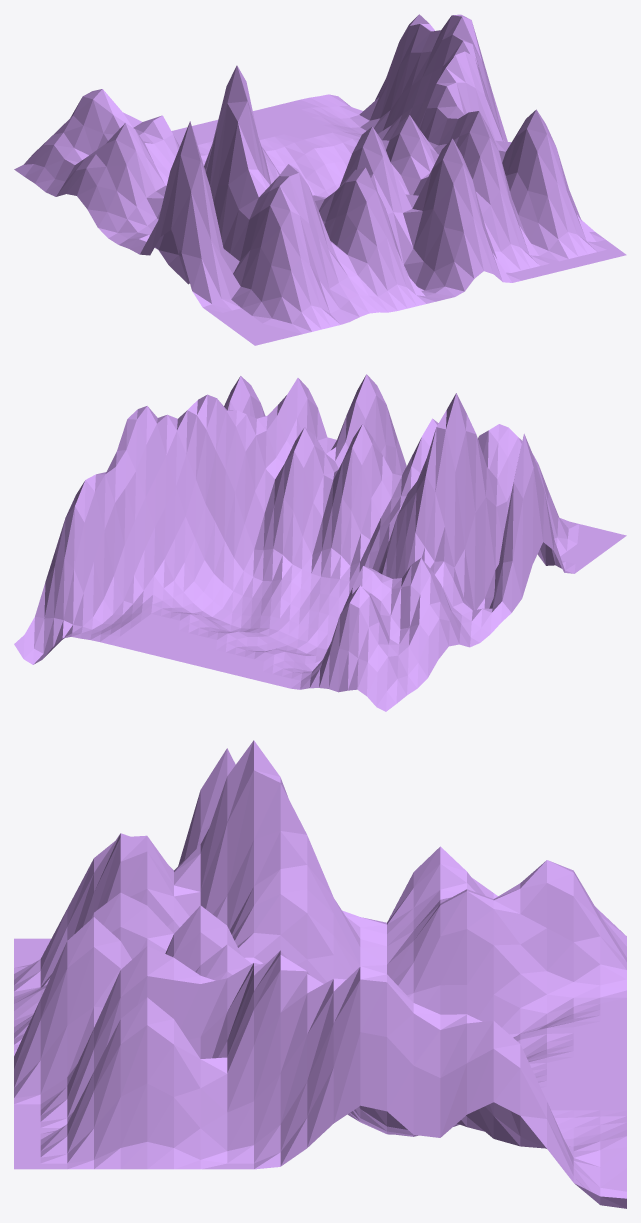
Rendered from terrain_a.dae.
3 views of the same model, one above another, from view 1: azimuth 30°, elevation 25°; view 2: azimuth 150°, elevation 25°; view 3: azimuth 270°, elevation 25° (orthographic). The views are drawn at different scales.
Visible parts, largest first — view 1: group_6; view 2: group_6; view 3: group_6.
Part boxes in pixels (x1,y1,x2,y2): group_6: (14, 14, 626, 345); group_6: (14, 374, 626, 711); group_6: (14, 740, 626, 1208).
Bounding box in the file's own units: 232 × 260 × 139.
